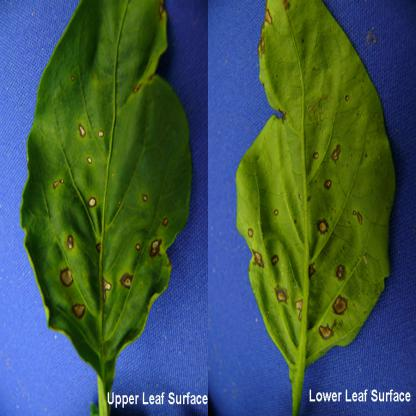bell pepper leaf spot: (21, 1, 196, 377), (233, 1, 399, 381)
